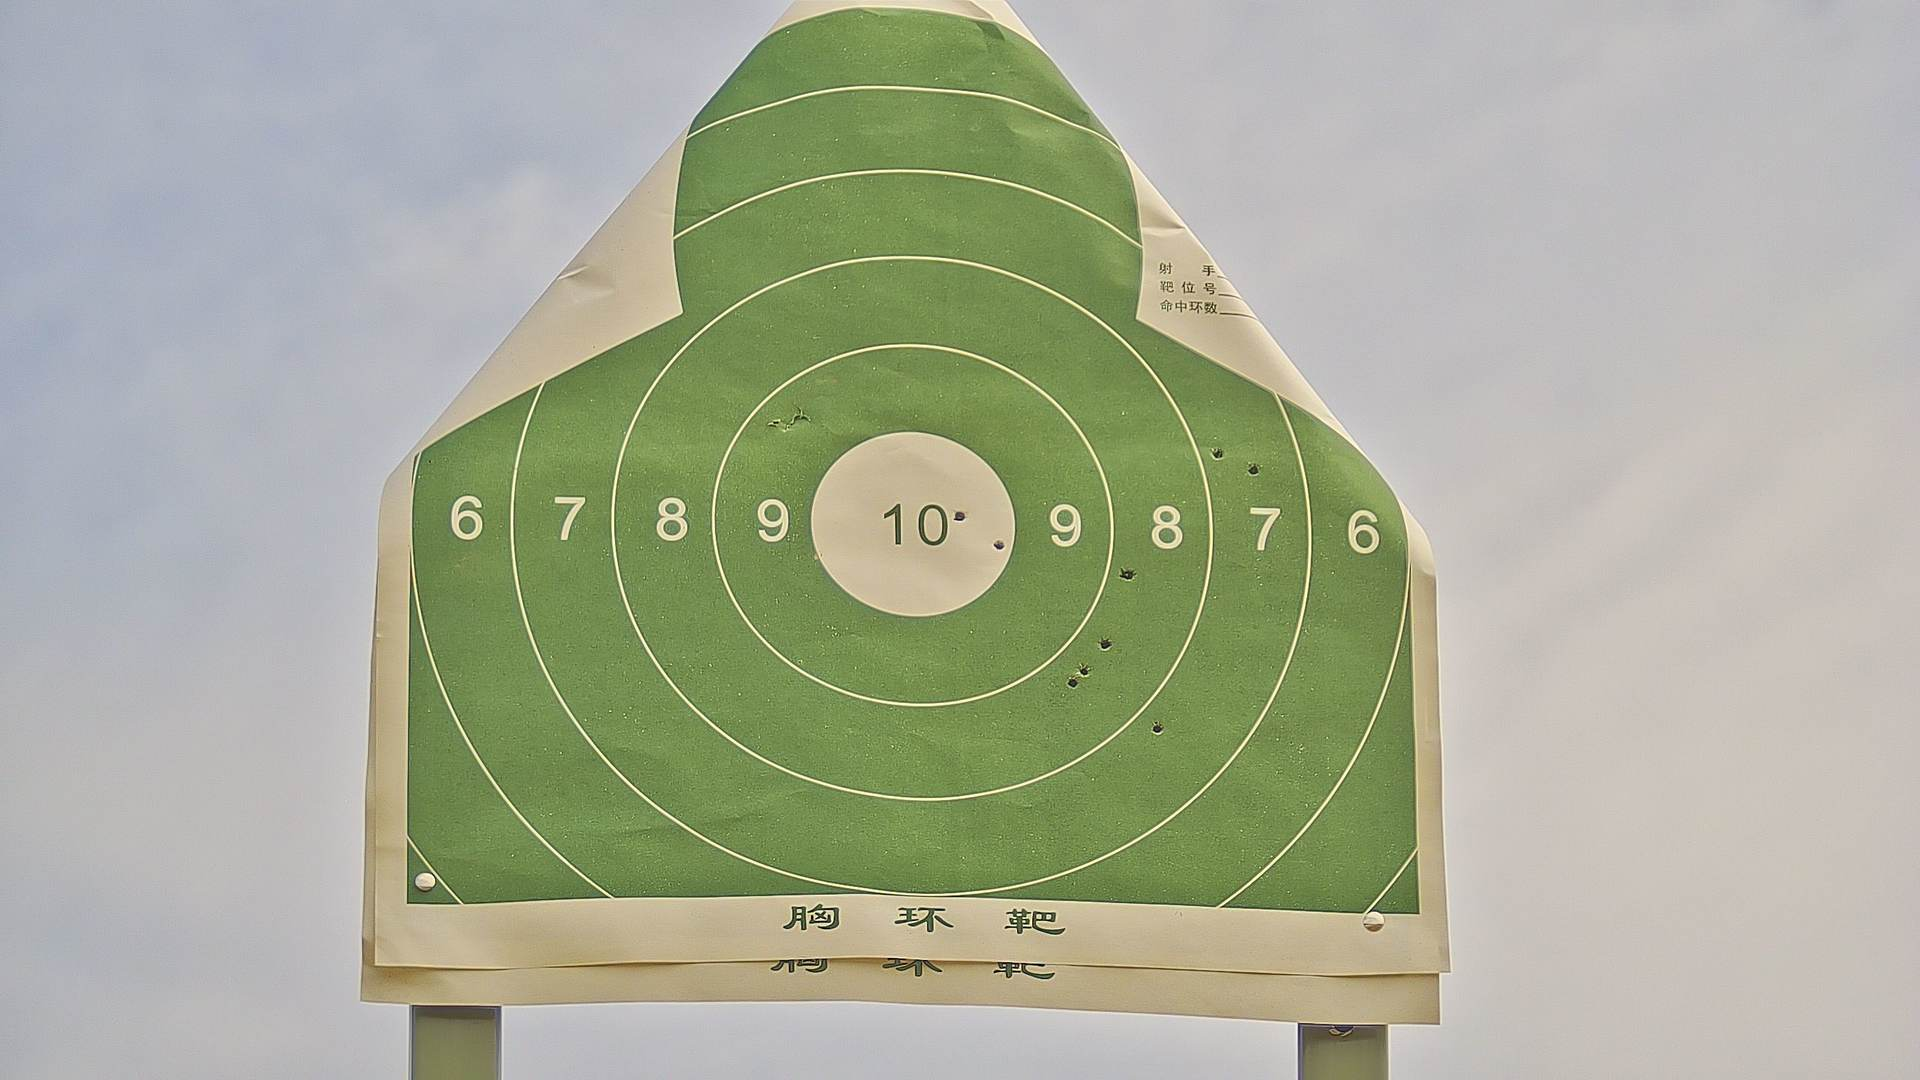hole: (1116, 563, 1139, 588), (1145, 713, 1171, 736), (1203, 442, 1226, 462), (1095, 632, 1114, 653), (1063, 669, 1084, 688), (1247, 459, 1263, 483), (953, 506, 971, 524), (1077, 659, 1092, 678), (992, 535, 1004, 553)
kernel: (903, 524, 913, 530)
target: (407, 13, 1419, 915)
ten: (808, 427, 1015, 624)
